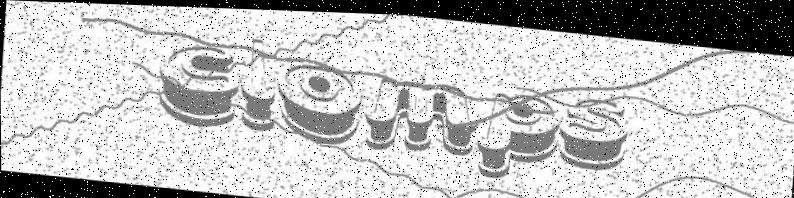c: (153, 37, 242, 130)
l: (236, 33, 282, 132)
m: (362, 72, 479, 158)
o: (273, 57, 365, 146)
p: (474, 86, 562, 181)
s: (555, 89, 629, 170)
